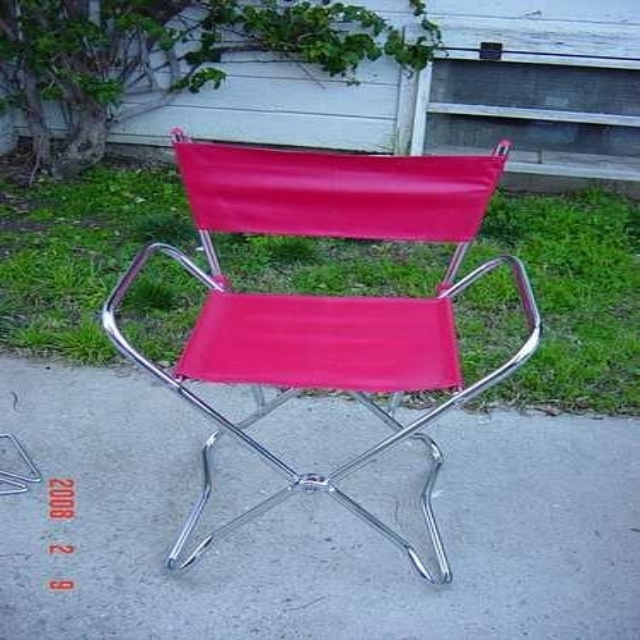obstacle: (102, 131, 541, 581)
